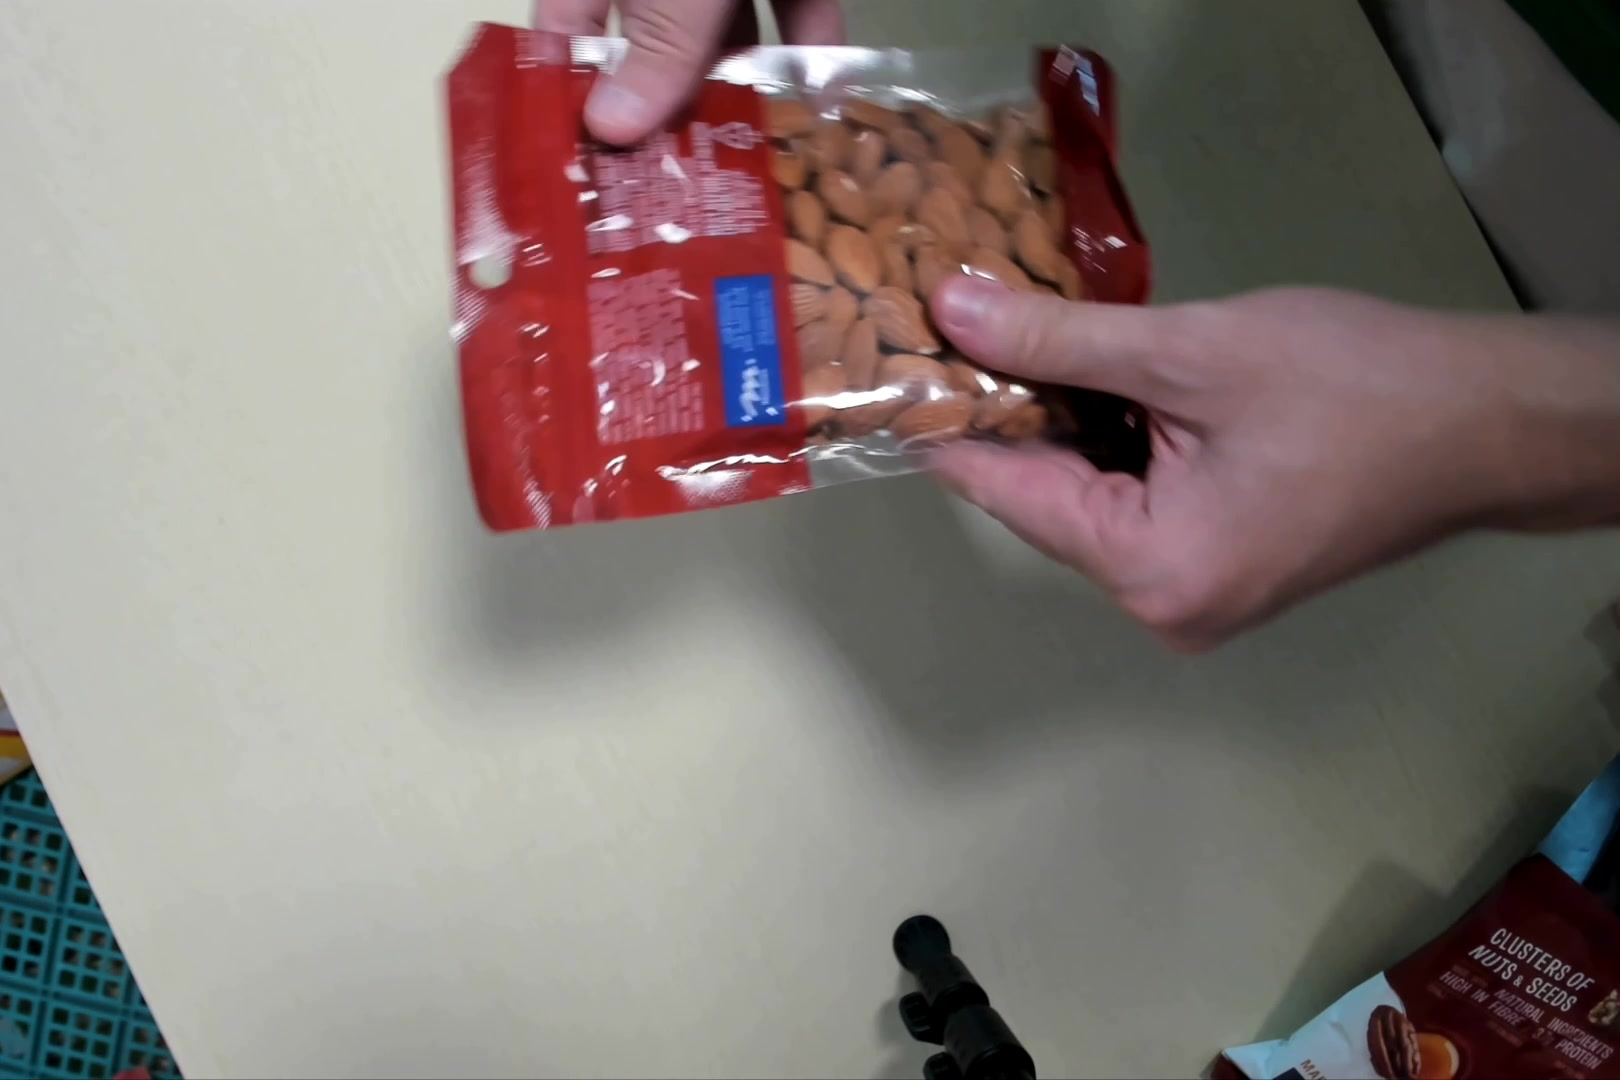Nuts_100-199g_NonHalal_NonHealthy: (450, 24, 1155, 501)
